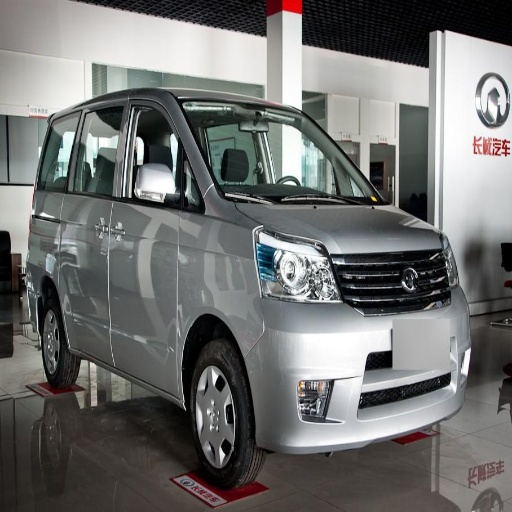front_bumper: (243, 251, 472, 447)
front_right_door: (97, 100, 199, 383)
front_right_light: (254, 229, 338, 302)
trunk: (23, 219, 59, 294)
